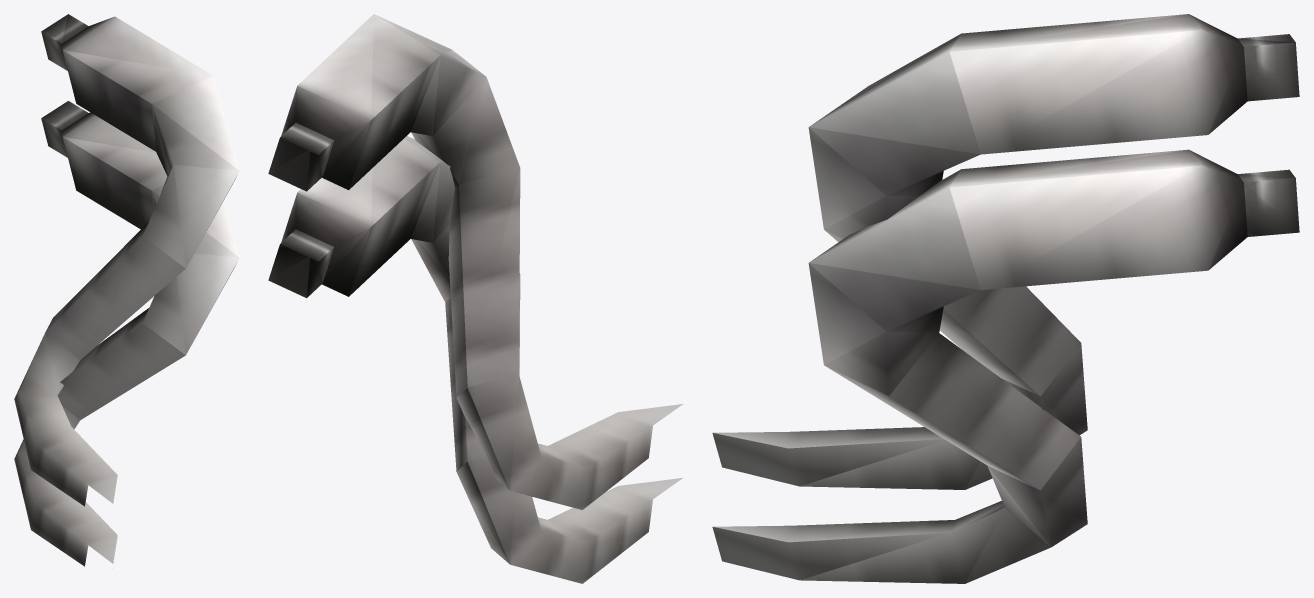
Rendered from acc_22.glb.
The picture shows the model from 3 angles, left to right: view 1: azimuth 30°, elevation 25°; view 2: azimuth 150°, elevation 25°; view 3: azimuth 270°, elevation 25°; orthographic projection. The views are drawn at different scales.
Visible parts, largest first — view 1: extrudedSurface1, extrudedSurface2; view 2: extrudedSurface1, extrudedSurface2; view 3: extrudedSurface2, extrudedSurface1.
Part boxes in pixels (box(x1,y1,x2,y2)): extrudedSurface1: box(14, 14, 239, 506); extrudedSurface2: box(14, 101, 239, 566); extrudedSurface1: box(268, 14, 682, 509); extrudedSurface2: box(268, 136, 683, 583); extrudedSurface2: box(712, 149, 1299, 583); extrudedSurface1: box(712, 14, 1299, 489).
Size of the model in its own units: 0.3919 by 0.8277 by 0.6694.
1 material, 1 textured.
